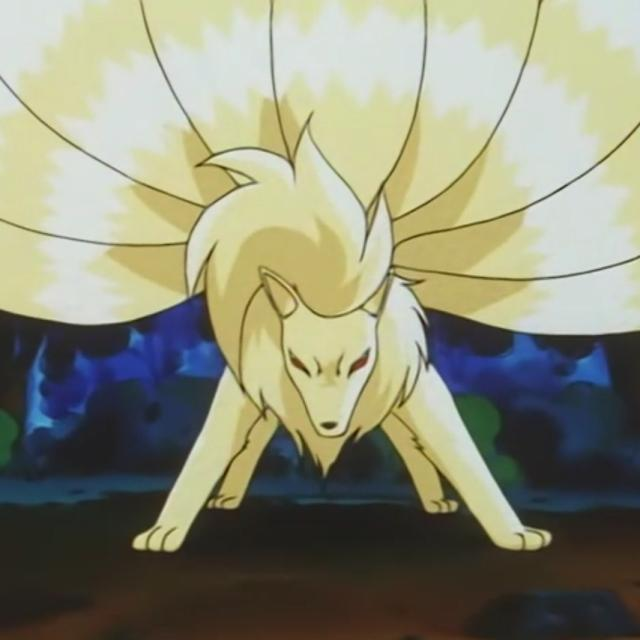Ninetales: (120, 105, 547, 556)
